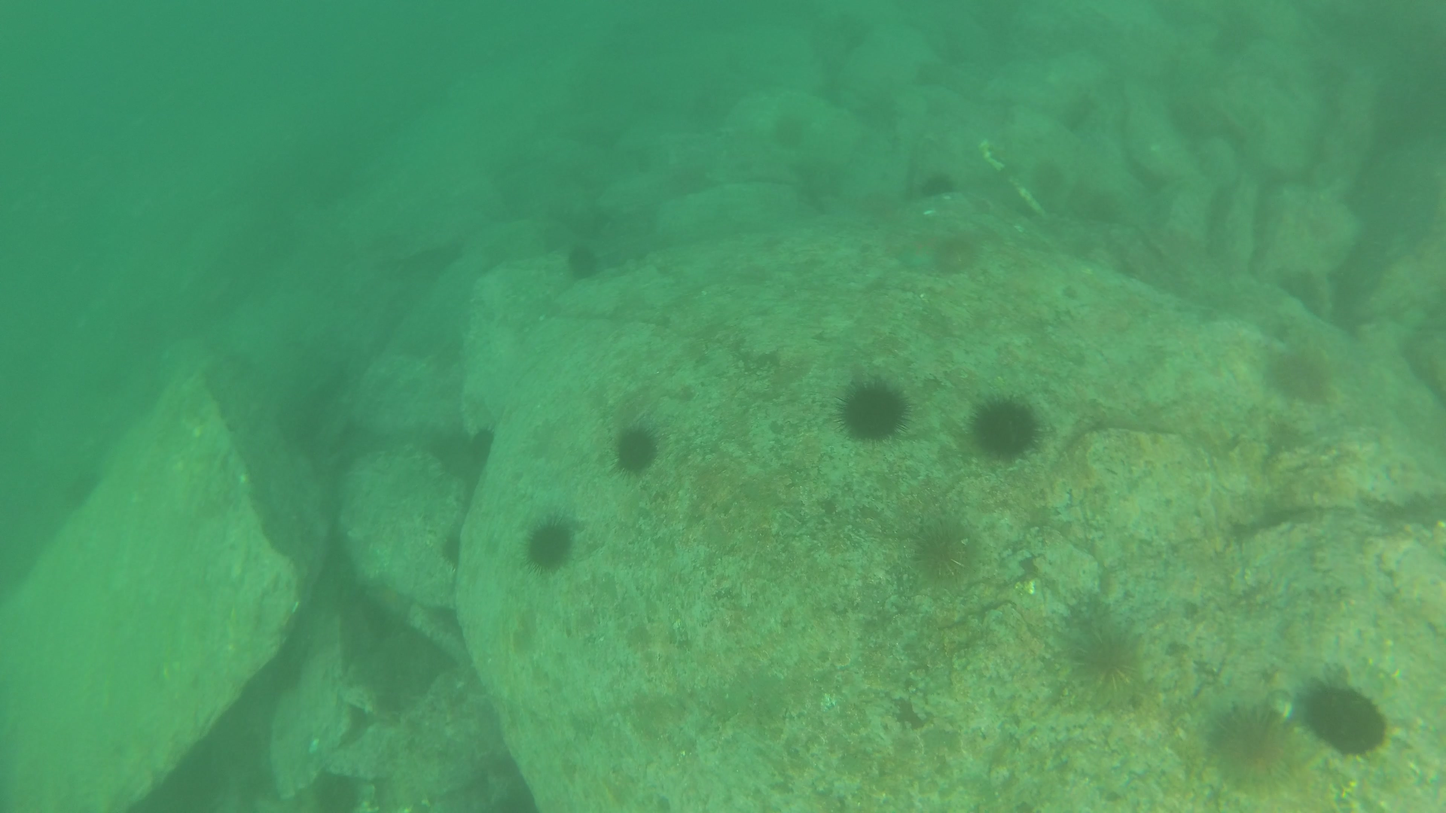starfish: (1214, 699, 1293, 791), (1070, 622, 1142, 711), (1304, 681, 1389, 755), (838, 381, 915, 444), (910, 520, 985, 582), (969, 395, 1045, 454), (1270, 356, 1332, 407), (528, 519, 582, 572), (612, 429, 662, 470), (1280, 271, 1326, 313), (662, 160, 714, 195), (1087, 187, 1132, 225), (935, 238, 977, 275), (567, 241, 606, 280), (312, 776, 358, 809), (858, 85, 893, 127), (1030, 156, 1066, 194), (776, 107, 809, 148), (919, 171, 959, 202)
